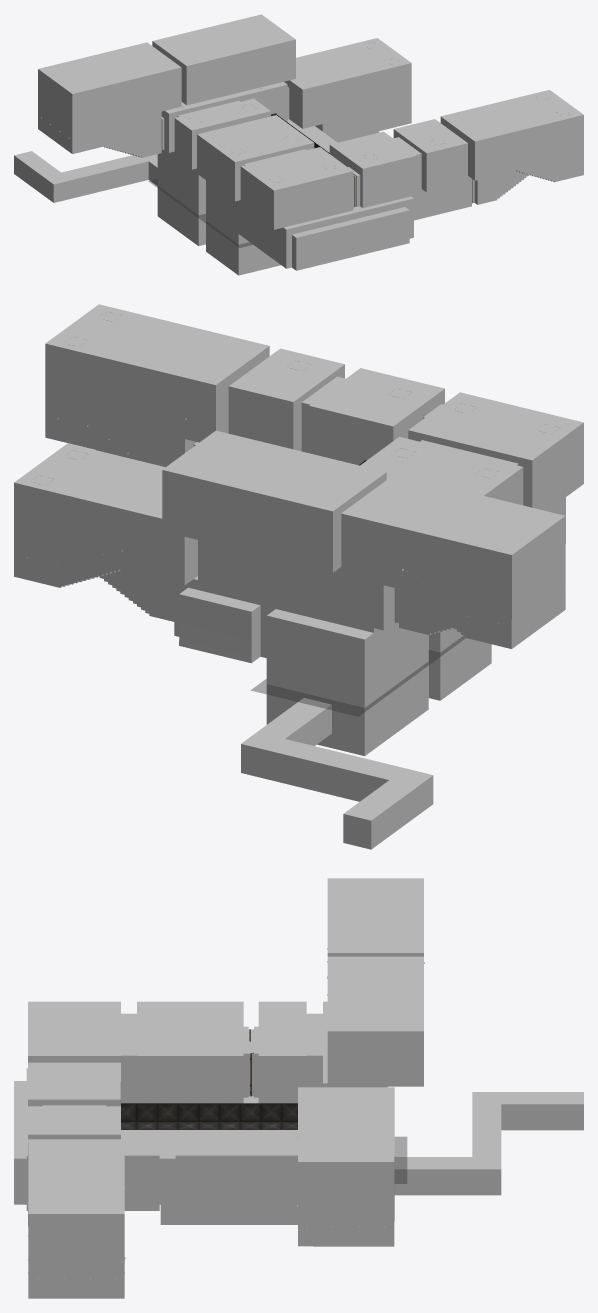
Rendered from levelroom1.fbx.
3 renders of one model, top to bottom at view 1: azimuth 30°, elevation 25°; view 2: azimuth 150°, elevation 25°; view 3: azimuth 270°, elevation 25°, orthographic. The views are drawn at different scales.
Parts seen in each view (by area): view 1: levelroom1, waterplane; view 2: levelroom1, waterplane; view 3: levelroom1, waterplane.
Part boxes in pixels (bbox=[...]): levelroom1: bbox=[14, 14, 583, 275]; waterplane: bbox=[148, 179, 252, 247]; levelroom1: bbox=[14, 304, 583, 849]; waterplane: bbox=[251, 635, 465, 716]; levelroom1: bbox=[14, 878, 583, 1298]; waterplane: bbox=[395, 1137, 406, 1183].
Size of the model in its own units: 4092 by 1580 by 3545.
